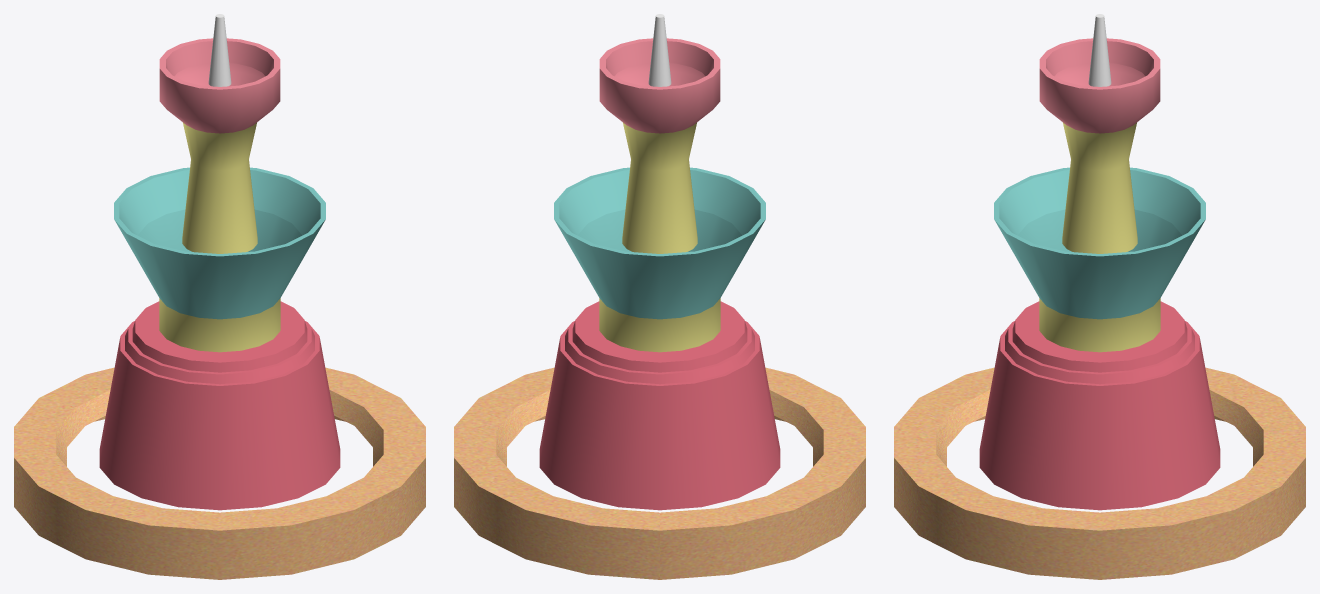
File: Fountain.FBX
3 views of the same model, side by side, from view 1: azimuth 30°, elevation 25°; view 2: azimuth 150°, elevation 25°; view 3: azimuth 270°, elevation 25° (orthographic).
Parts seen in each view (by area): view 1: Fountain; view 2: Fountain; view 3: Fountain.
Part boxes in pixels (<box>): Fountain: <box>14,14,425,579</box>; Fountain: <box>454,14,865,579</box>; Fountain: <box>894,14,1305,579</box>.
Bounding box in the file's own units: 3.6 × 3.55 × 4.52.
